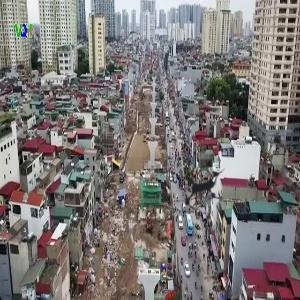drone: (166, 151, 247, 232)
